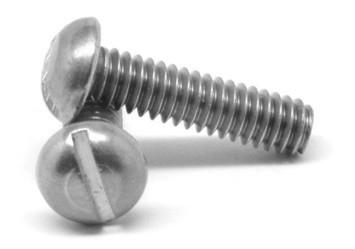screw: (37, 121, 149, 228)
